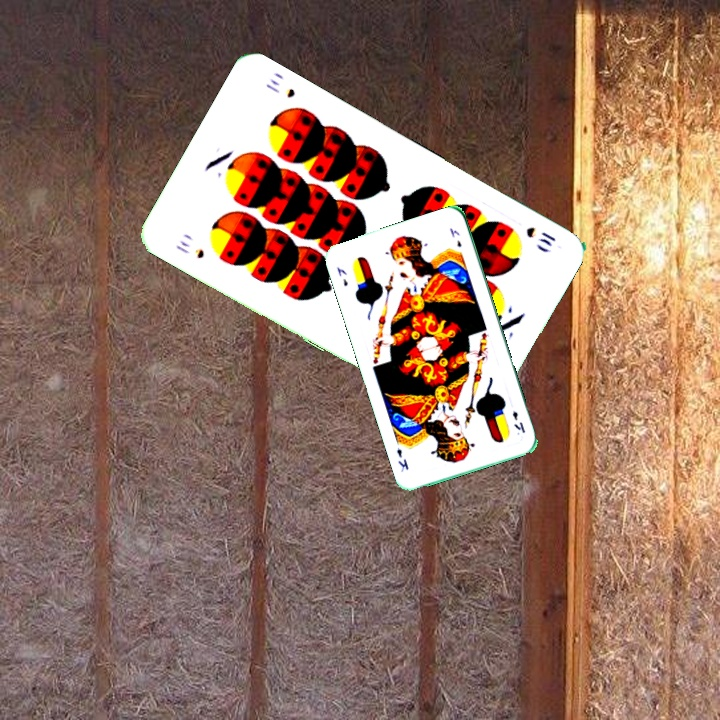EK: (508, 407, 528, 436), (333, 263, 350, 289)
S10: (522, 222, 559, 249), (171, 236, 207, 262)
